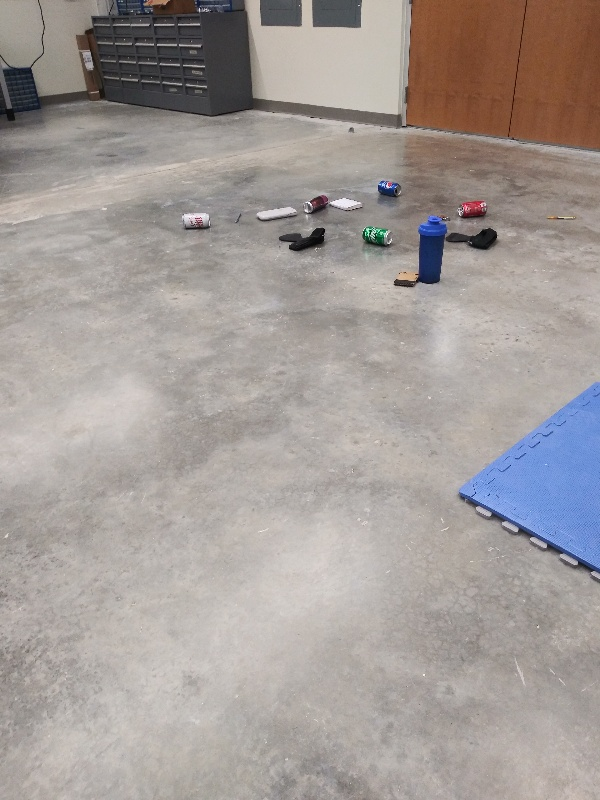can: (301, 192, 333, 215), (178, 210, 213, 231), (454, 200, 489, 221), (360, 225, 393, 247), (375, 179, 401, 197)
